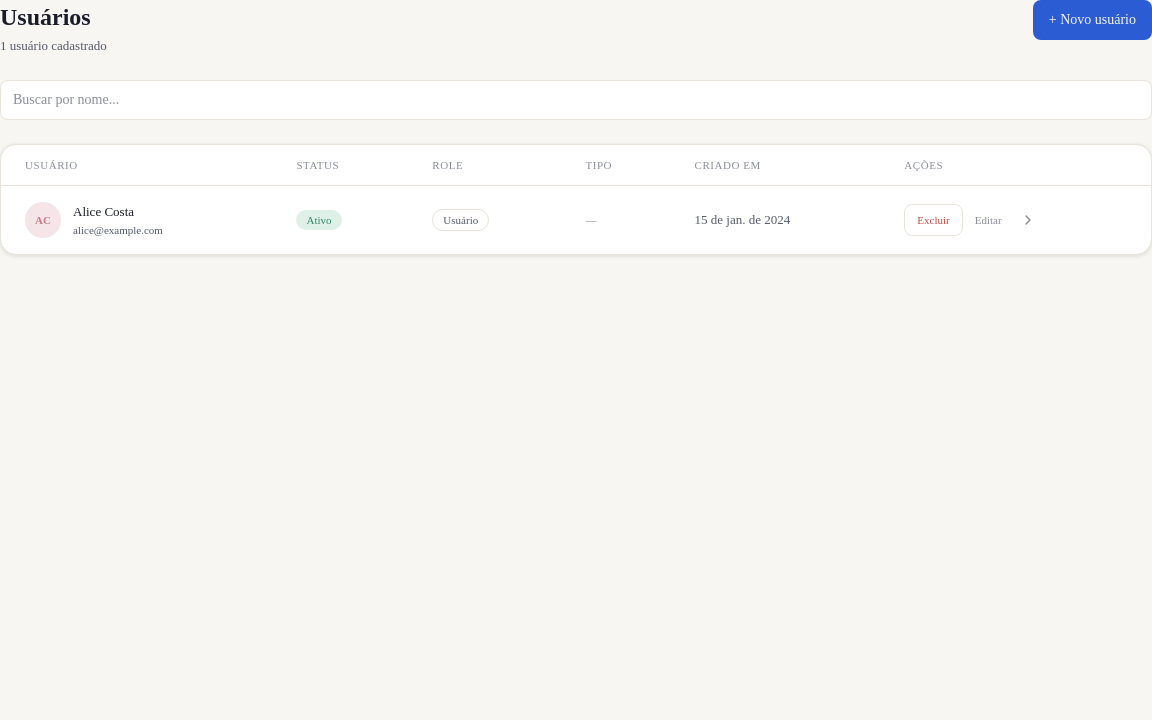
it: UserList (integration) › opens delete dialog when delete button is clicked
The width and height of the screenshot is (1152, 720).
Expected: the table with test id "user-list-table" is shown, 1,145 -> 1151,254
Click the button with test id "user-delete-button-uuid-1".
click(934, 220)  # box 904,204 -> 963,236
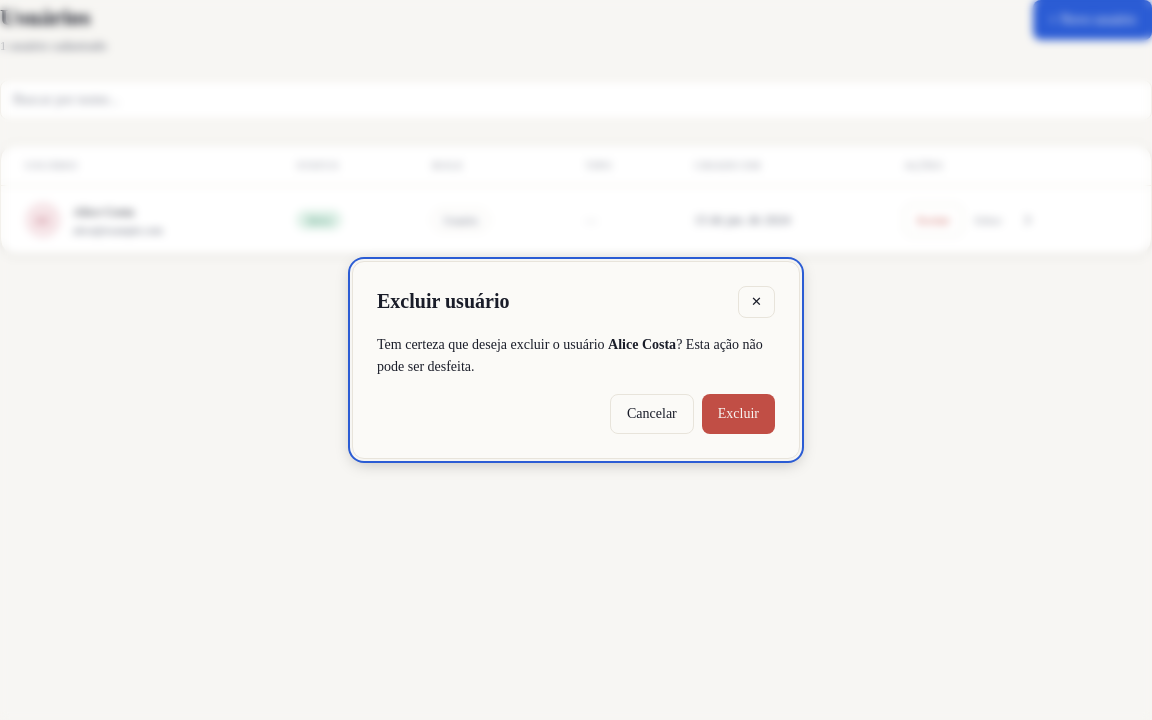
Expected: the button with test id "delete-user-dialog-confirm" is shown, 702,394 -> 775,434
